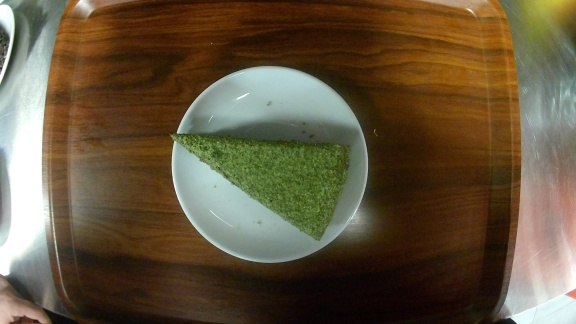fistiklipasta: (172, 65, 370, 260)
